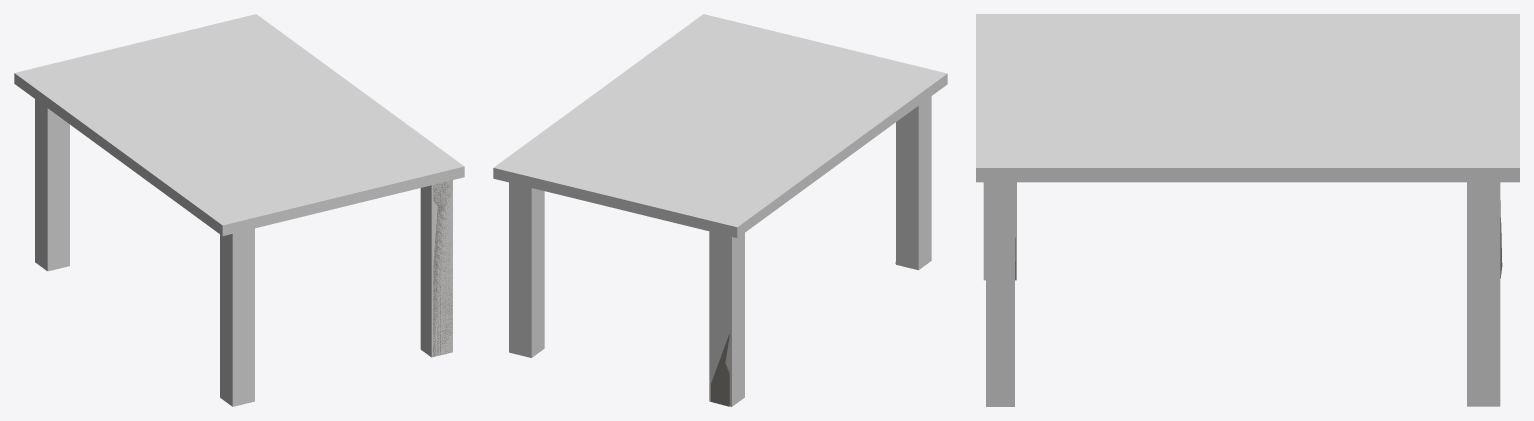
Rendered from model_table.fbx.
3 renders of one model, left to right at view 1: azimuth 30°, elevation 25°; view 2: azimuth 150°, elevation 25°; view 3: azimuth 270°, elevation 25°, orthographic. The views are drawn at different scales.
Visible parts, largest first — view 1: model_table_col, model_table; view 2: model_table_col, model_table; view 3: model_table_col.
Boxes of the visible parts, x1,y1,x2,y2 form: model_table_col: (14, 14, 464, 406); model_table: (433, 180, 452, 356); model_table_col: (493, 14, 947, 406); model_table: (711, 262, 895, 406); model_table_col: (976, 14, 1519, 406).
Size of the model in its own units: 174 by 128 by 259.
2 materials, 1 textured.
